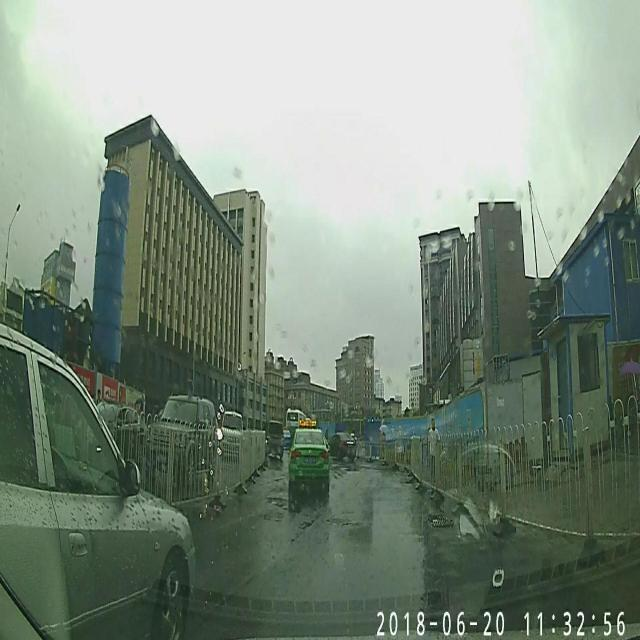car: (0, 323, 195, 639), (145, 390, 218, 493), (95, 398, 147, 470), (288, 418, 330, 499), (221, 411, 244, 455), (264, 416, 284, 462), (329, 430, 357, 460)
